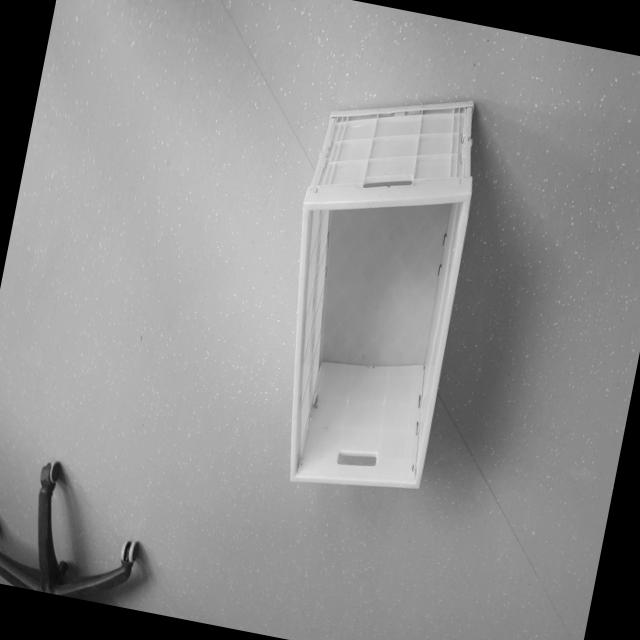box: (248, 70, 509, 512)
